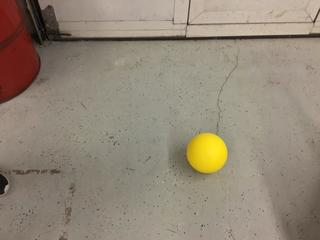power_cell: (185, 129, 231, 178)
